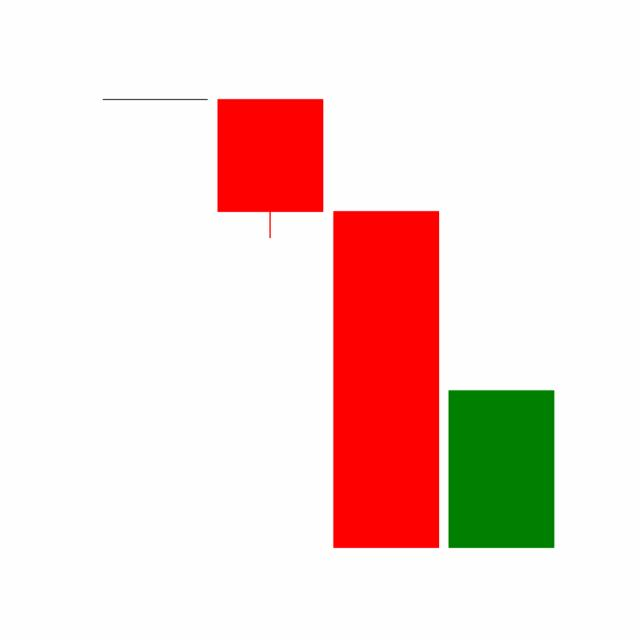Marubozu: (328, 207, 444, 550)
